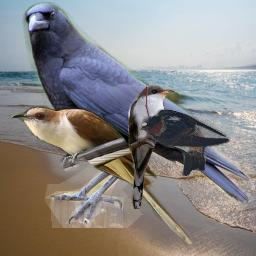Crow: (19, 2, 256, 228)
Cuckoo: (10, 105, 196, 248), (127, 84, 175, 209)
Swallow: (139, 108, 231, 176)
